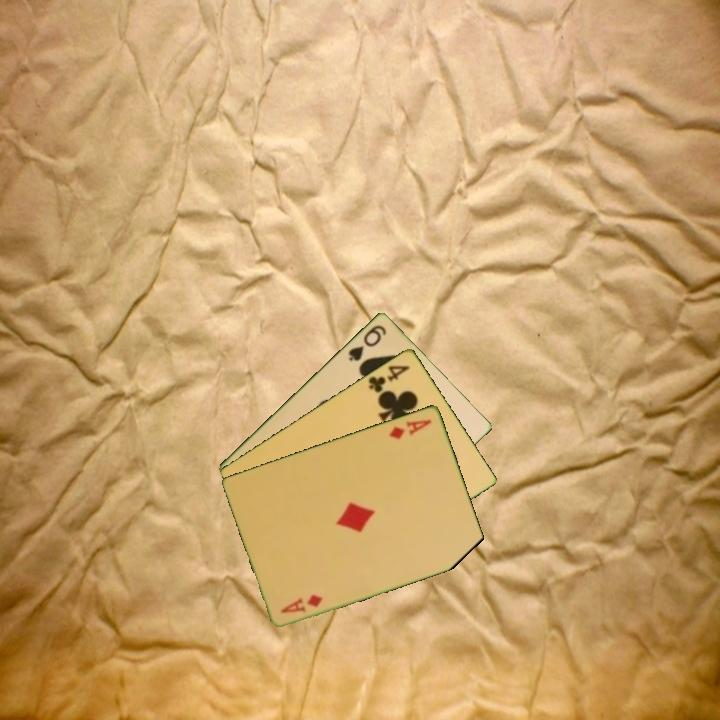4c: (365, 361, 413, 395)
6s: (345, 321, 389, 364)
Ad: (386, 415, 435, 442), (277, 590, 326, 616)
